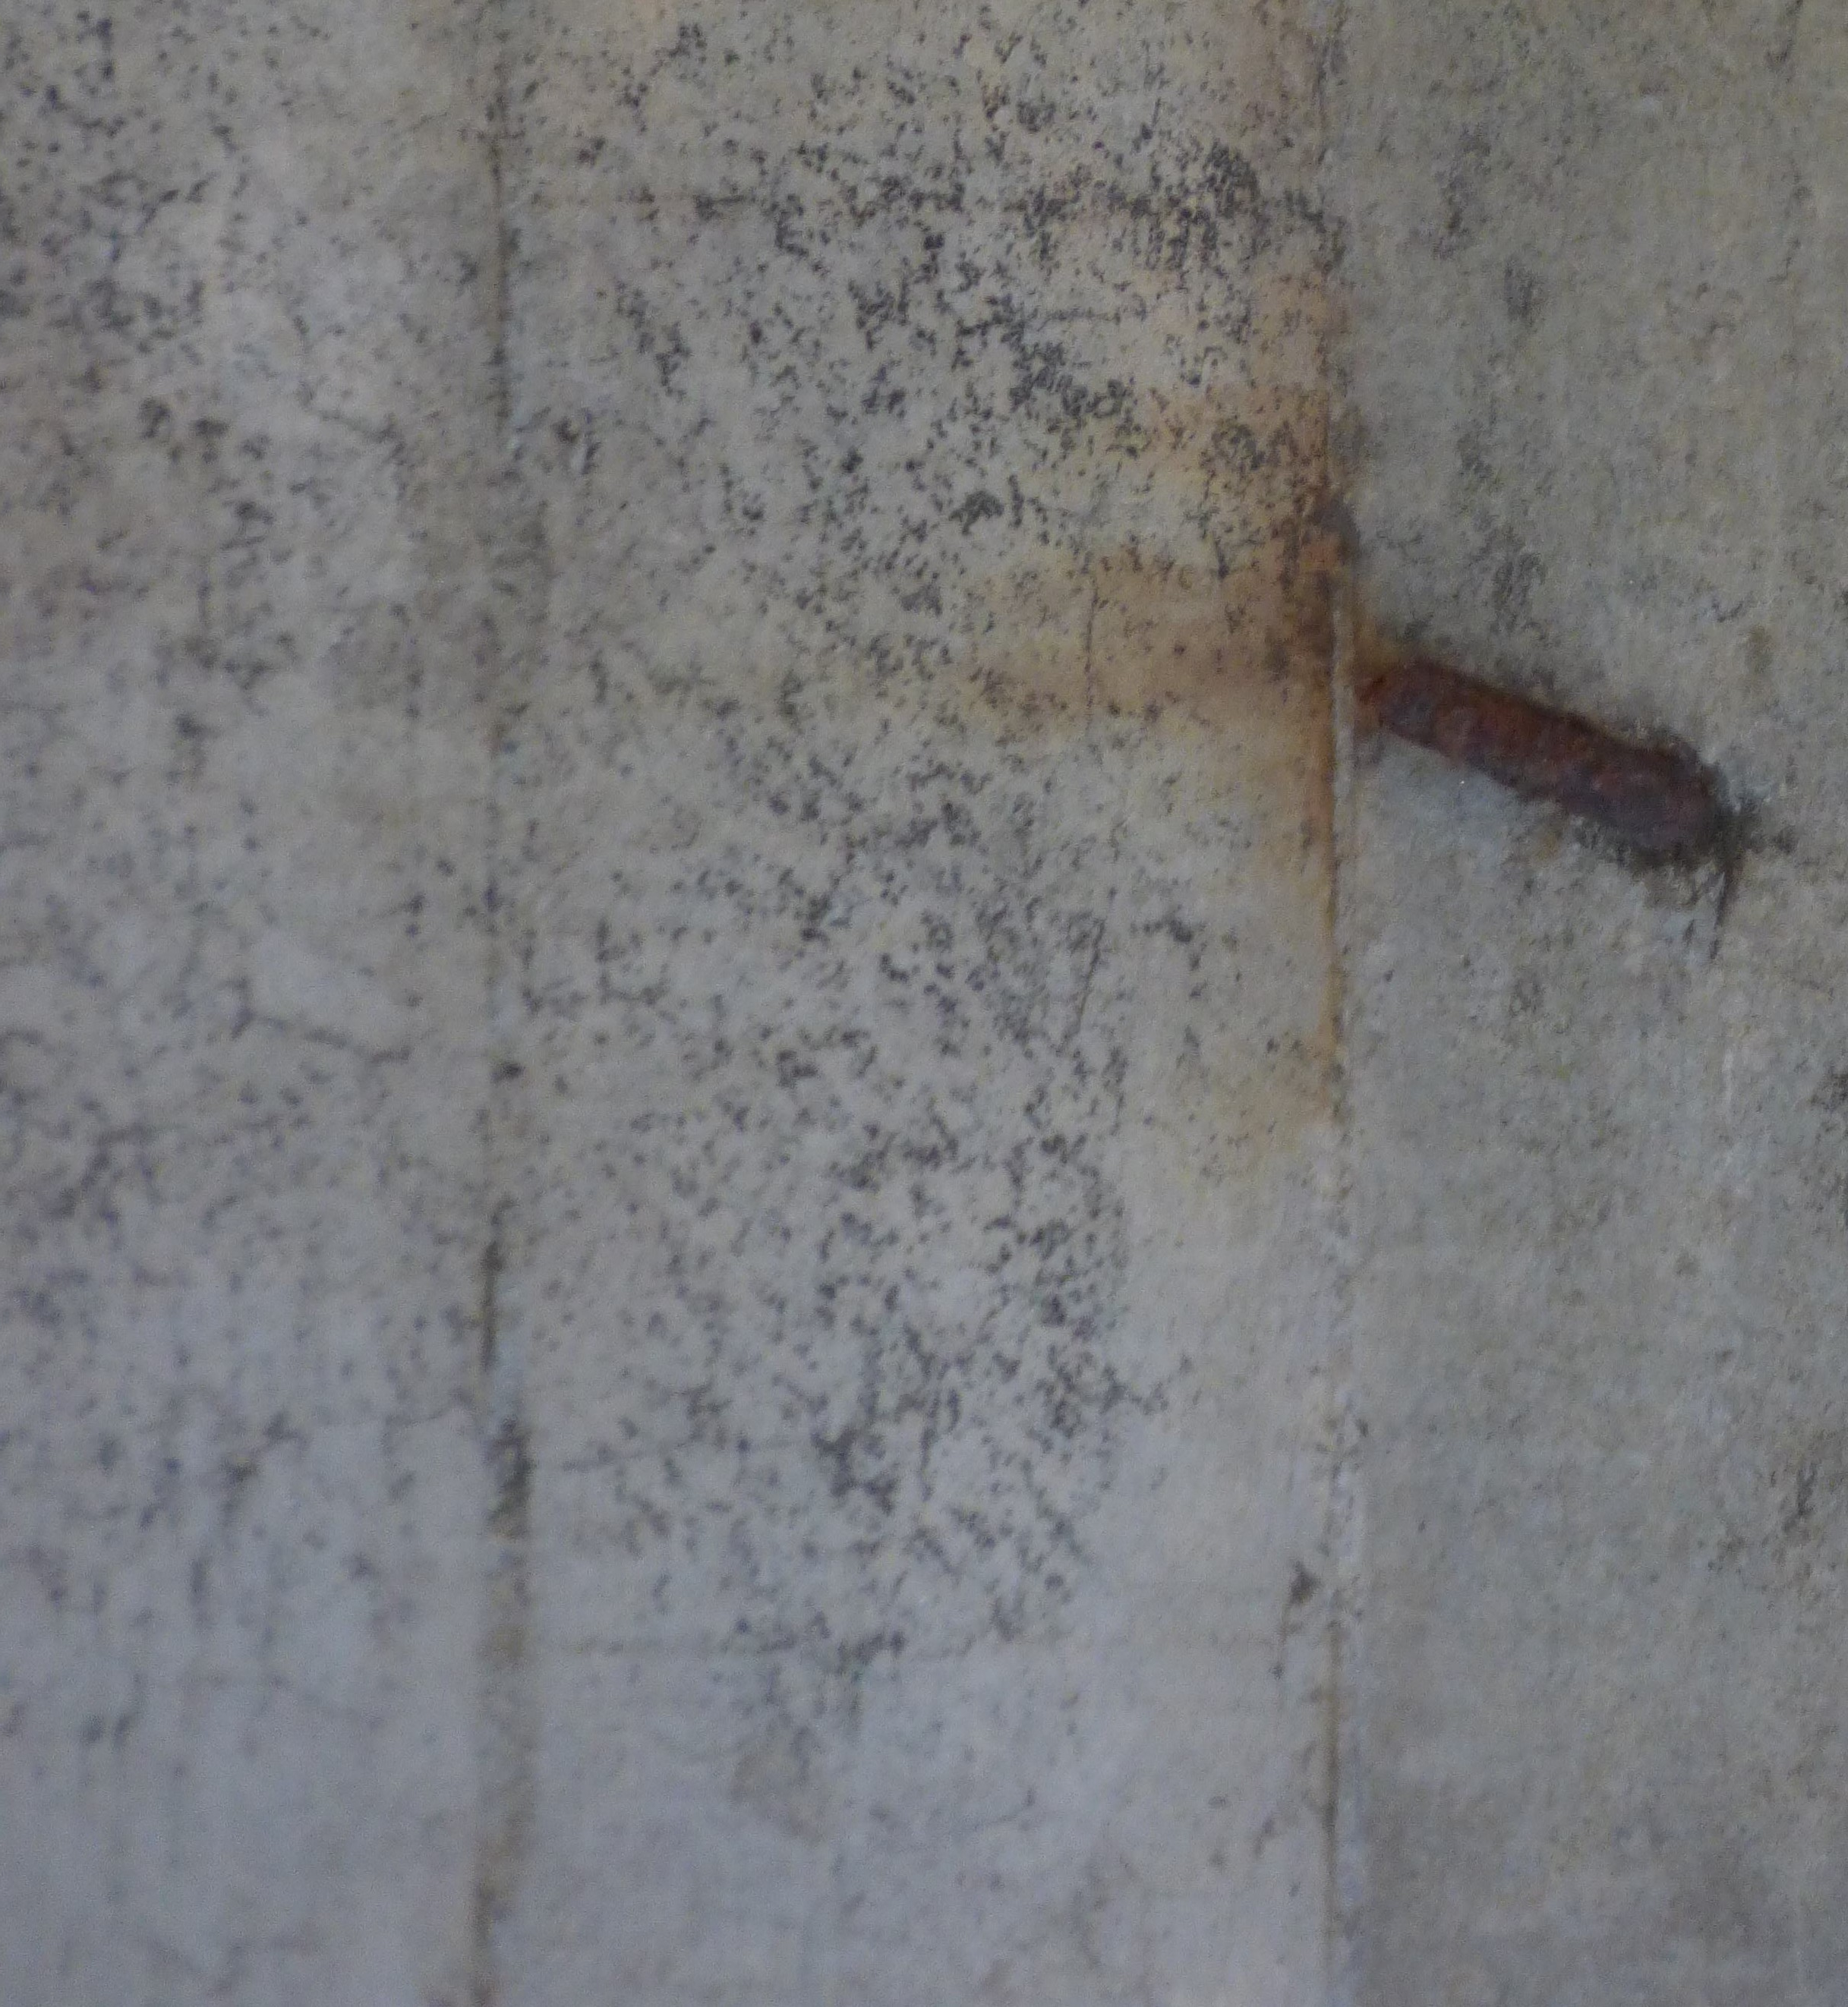Exposed reinforcement: (1353, 663, 1710, 851)
